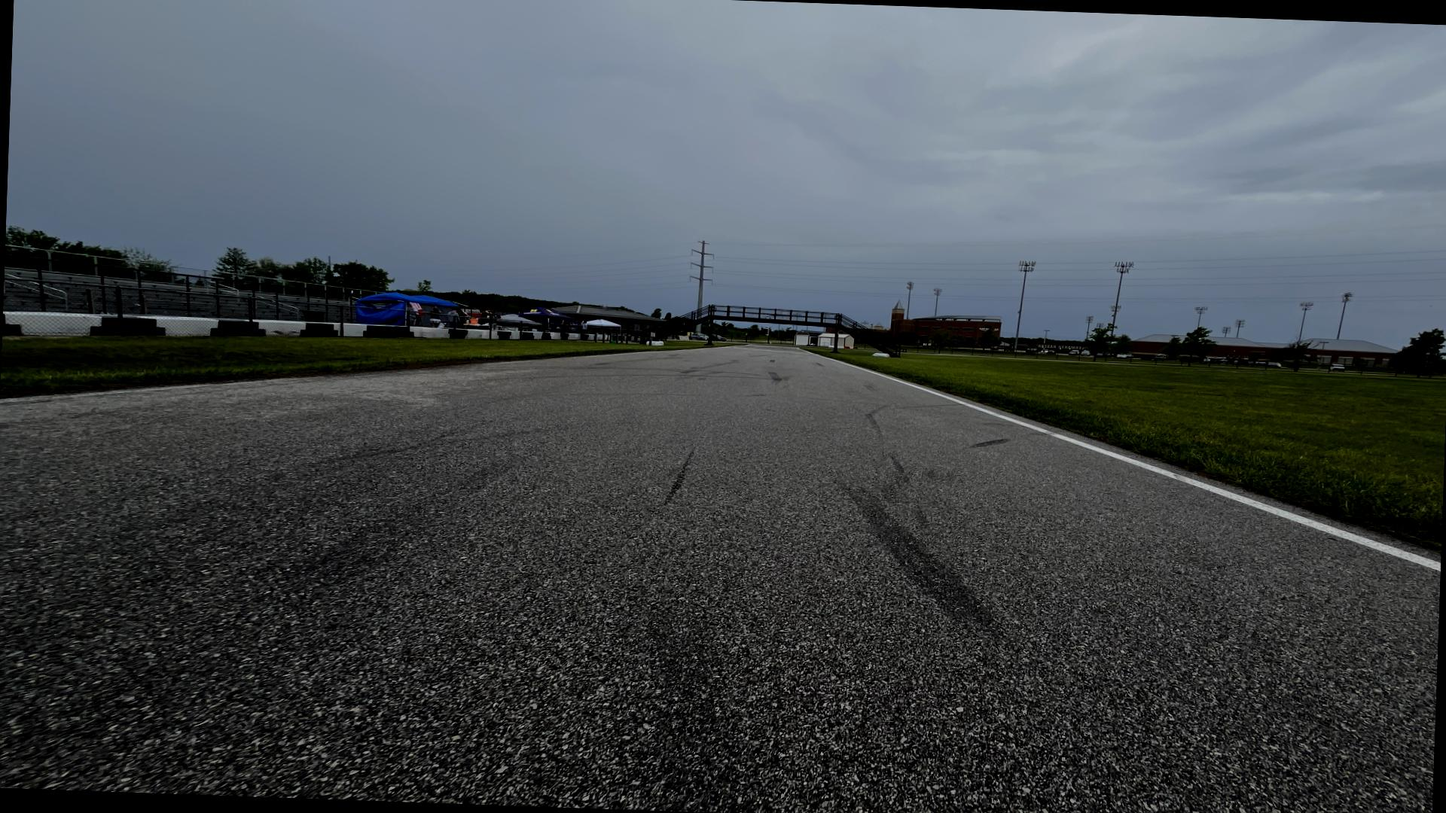white-line: (815, 355, 1439, 576), (0, 376, 322, 403), (725, 345, 743, 348), (798, 349, 811, 353)
